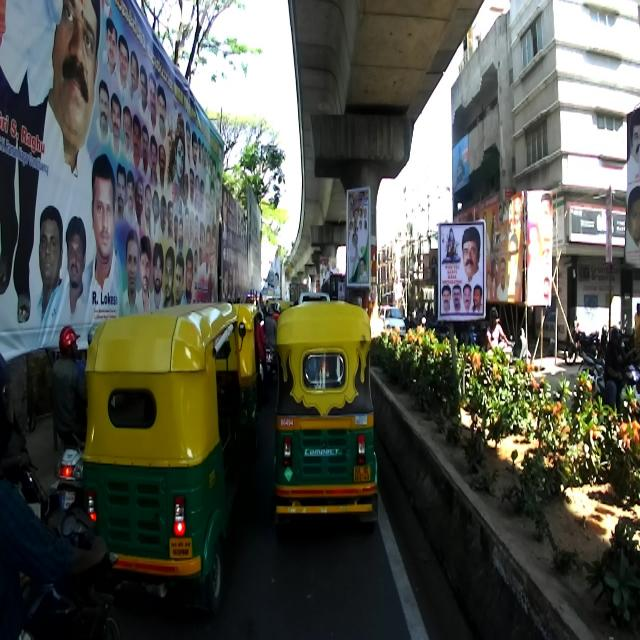autorickshaw: (82, 284, 247, 596), (271, 299, 379, 534)
motorcycle: (0, 479, 128, 639), (593, 359, 637, 422)
scooter: (2, 412, 52, 534), (54, 433, 88, 520)
